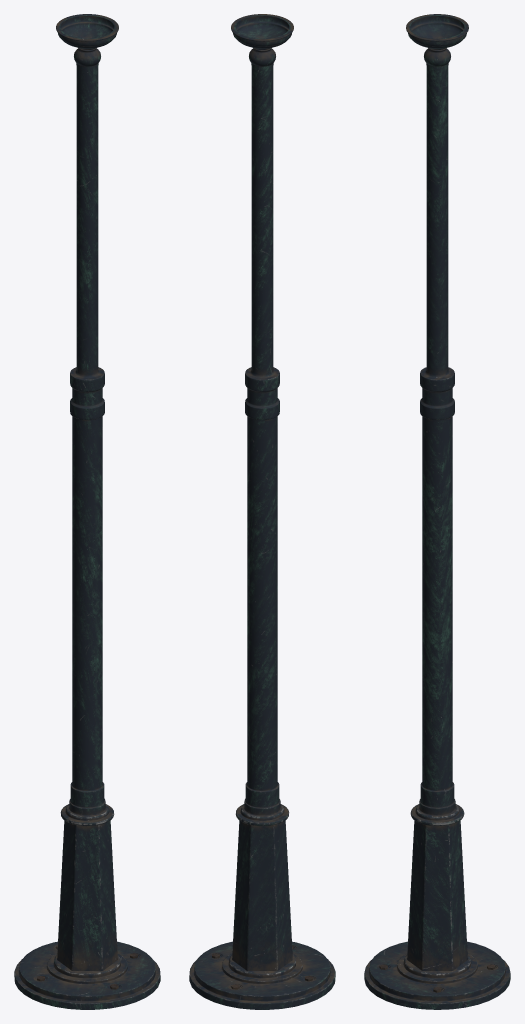
The model's file is Street_Lamp_Post.obj.
The picture shows the model from 3 angles, left to right: view 1: azimuth 30°, elevation 25°; view 2: azimuth 150°, elevation 25°; view 3: azimuth 270°, elevation 25°; orthographic projection.
Parts seen in each view (by area): view 1: StrLmp1_Post, StrLmp1_Stand; view 2: StrLmp1_Post, StrLmp1_Stand; view 3: StrLmp1_Post, StrLmp1_Stand.
Boxes of the visible parts, <box> form: StrLmp1_Post: <box>14,66,160,1009</box>; StrLmp1_Stand: <box>56,14,118,69</box>; StrLmp1_Post: <box>189,66,335,1009</box>; StrLmp1_Stand: <box>231,14,293,69</box>; StrLmp1_Post: <box>364,66,510,1009</box>; StrLmp1_Stand: <box>406,14,468,69</box>.
Bounding box in the file's own units: 0.2682 × 1.92 × 0.2682.
Materials: 1 (1 with a texture image).
